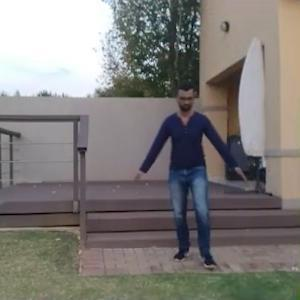land: (135, 68, 258, 281)
